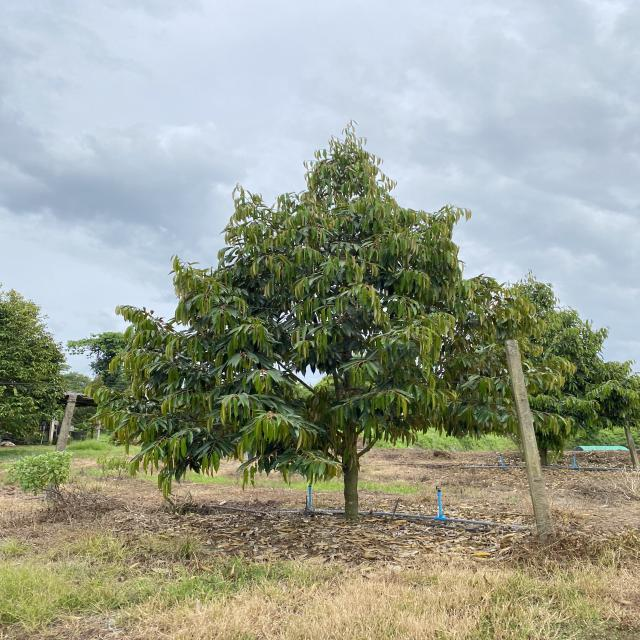Tree: (119, 138, 467, 518)
